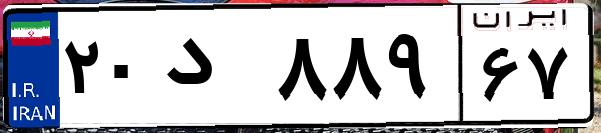0: (110, 28, 158, 98)
2: (57, 26, 110, 100)
6: (475, 38, 525, 113)
7: (525, 38, 570, 115)
8: (270, 28, 330, 110), (330, 28, 385, 110)
9: (385, 28, 445, 110)
د: (158, 20, 270, 120)
